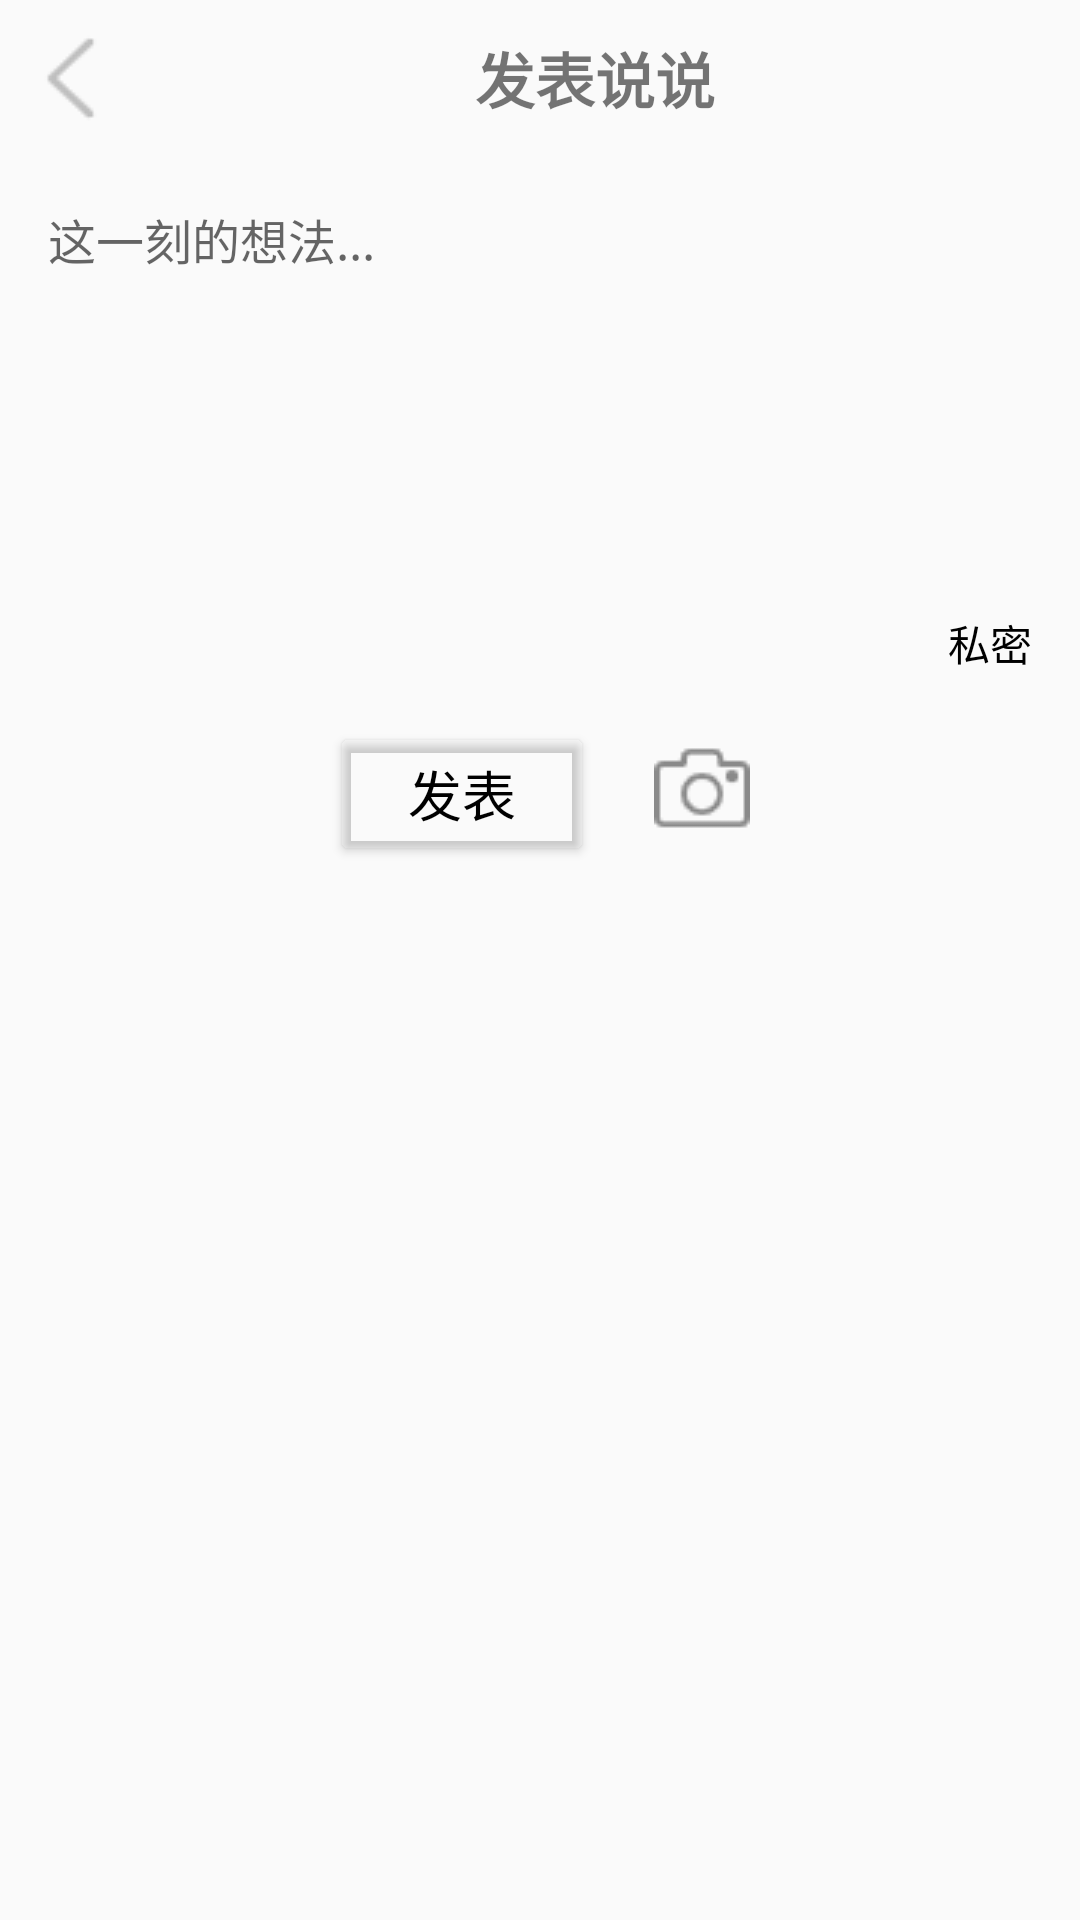

Where to tap for icons on this 1080px×1920px app screen, as (x=x, y=y):
back: (x=70, y=78)
photo: (x=702, y=788)
